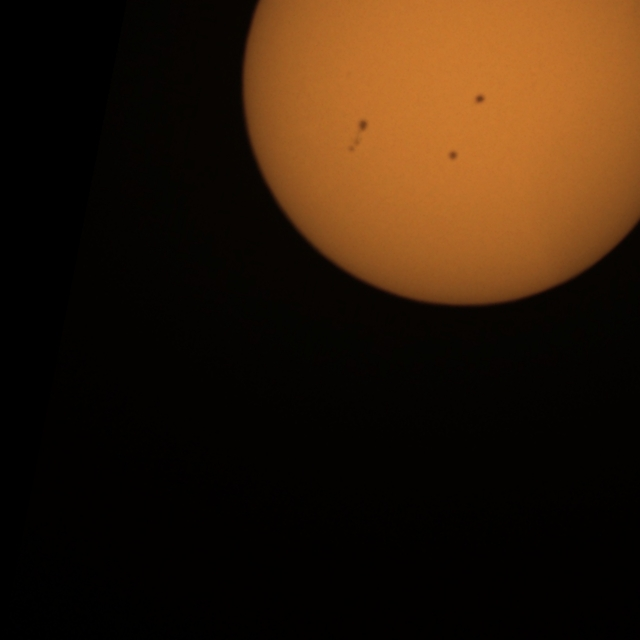sunspot: (346, 119, 370, 154), (356, 117, 370, 133), (446, 149, 460, 163), (473, 92, 486, 106)
